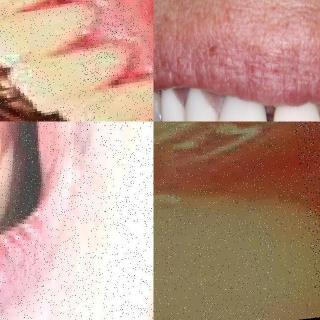Gum Swelling: (263, 121, 320, 320)
